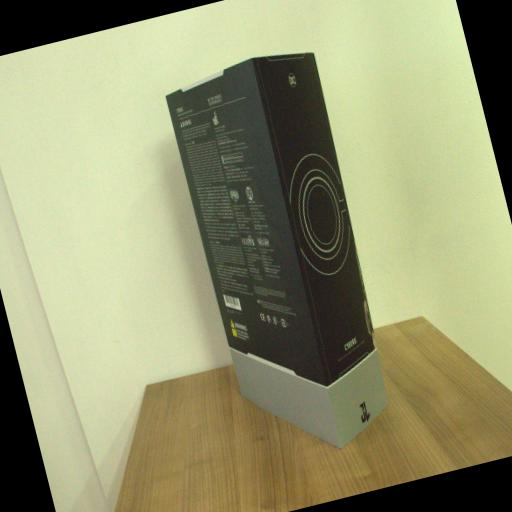Cyborg: (162, 41, 410, 473)
